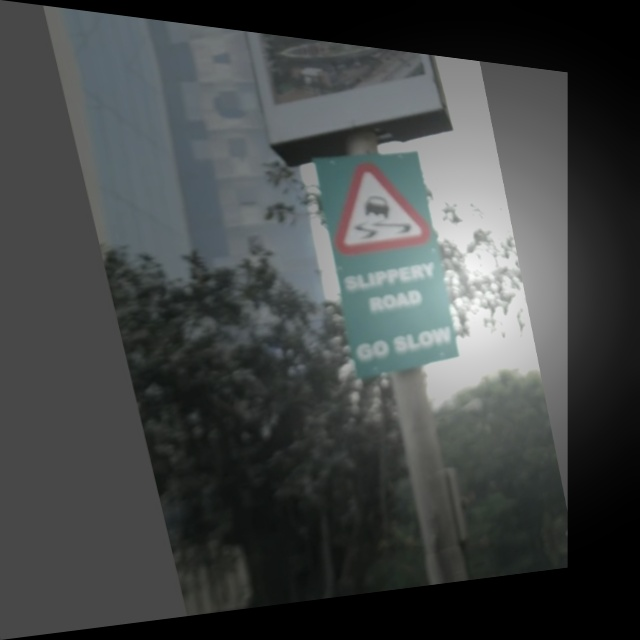Slippery_Road: (318, 148, 432, 262)
